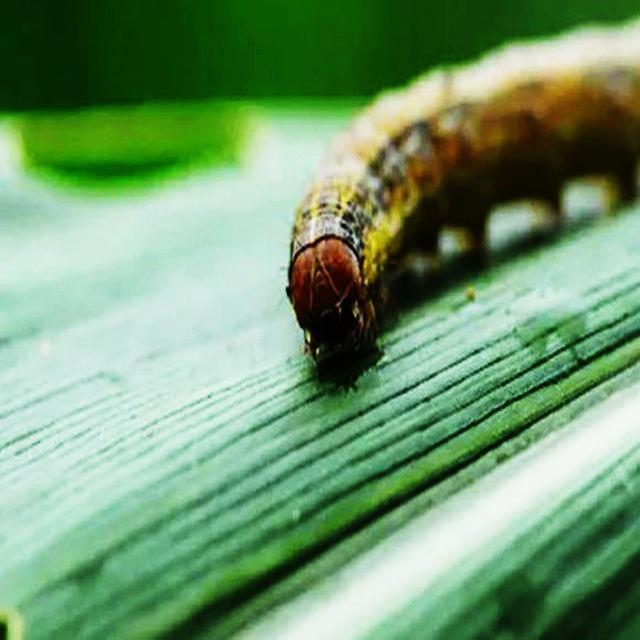worm: (284, 18, 640, 383)
